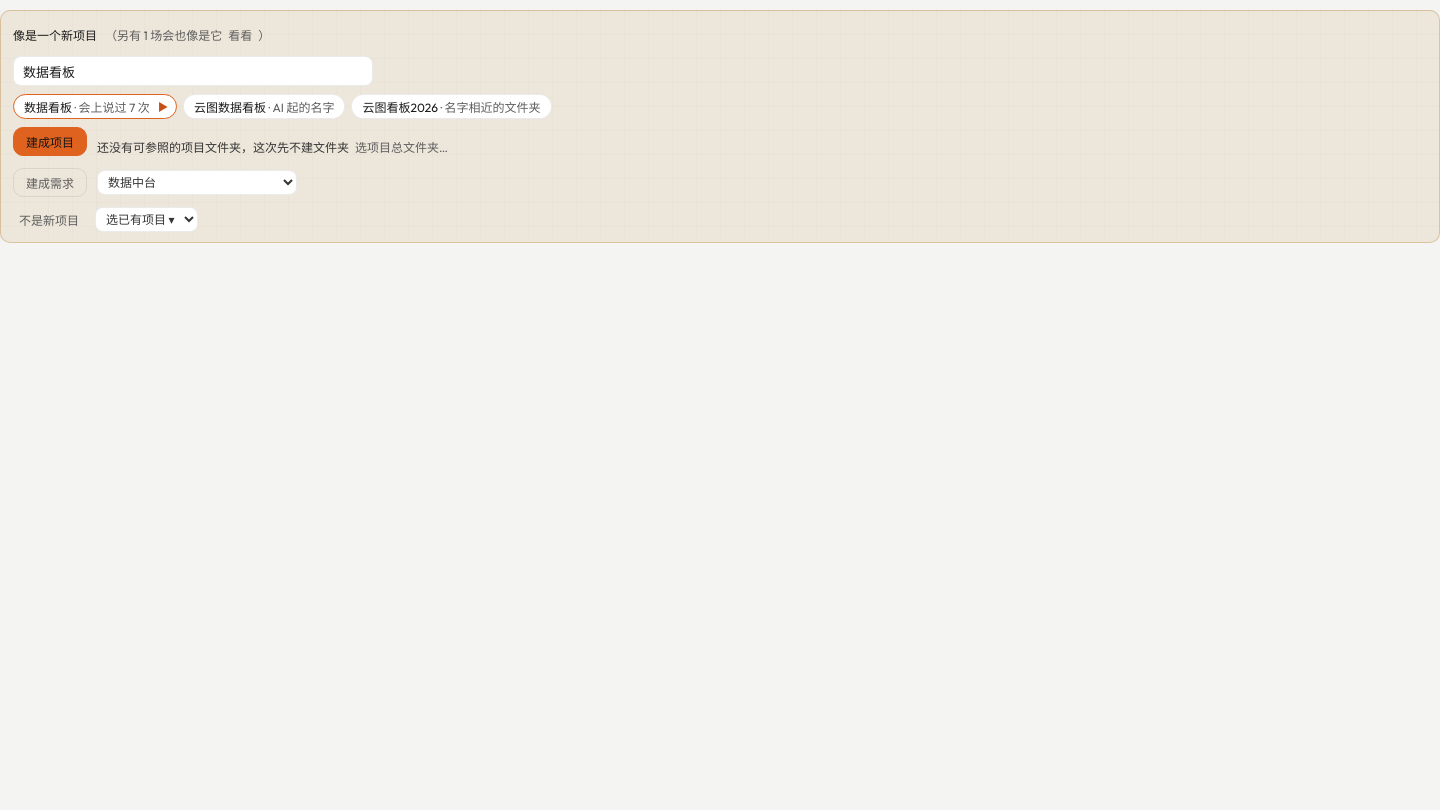
Test: NewNamePrompt 像是一个新项目 › 还没有可参照的项目文件夹：这次先不建，［选项目总文件夹…］就地打开取径器
The image size is (1440, 810).
Check: the text "还没有可参照的项目文件夹，这次先不建文件夹" is shown, box [97,140,349,154]
Click the button "选项目总文件夹…".
click(402, 146)  # box [349,132,454,160]
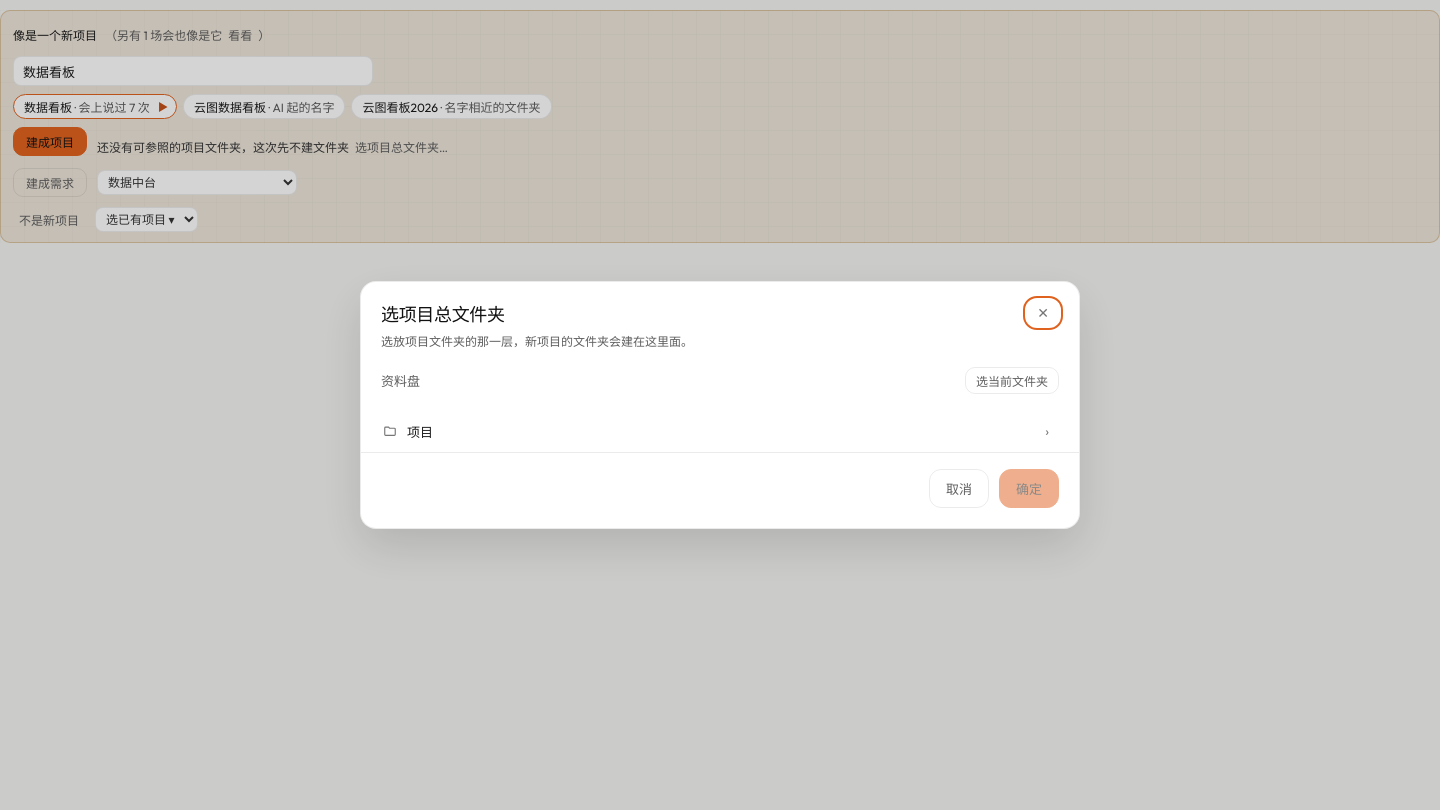
Click the text "项目".
click(408, 431)  # box [383,422,433,441]
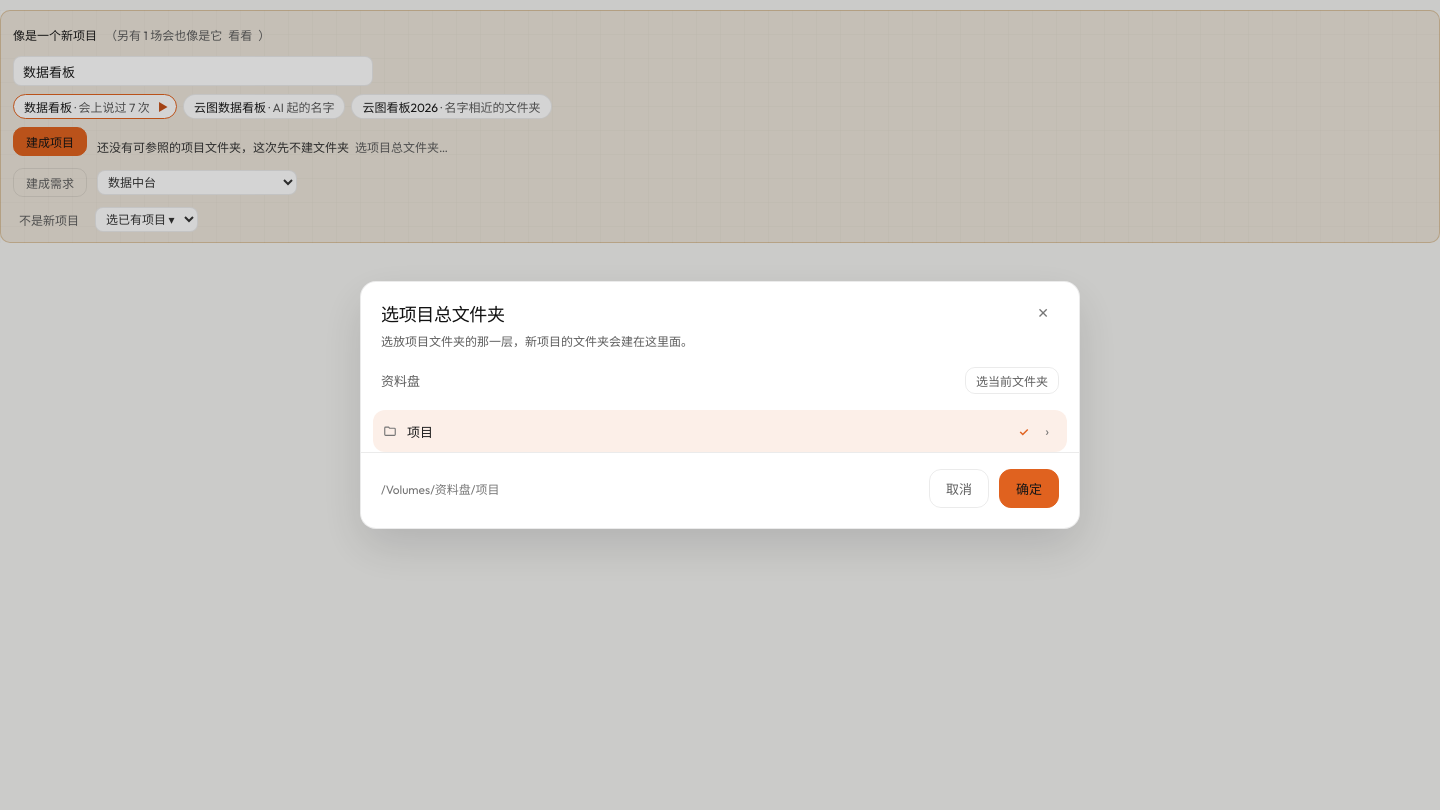
Click the button "确定".
click(1029, 489)  # box [999,469,1059,508]
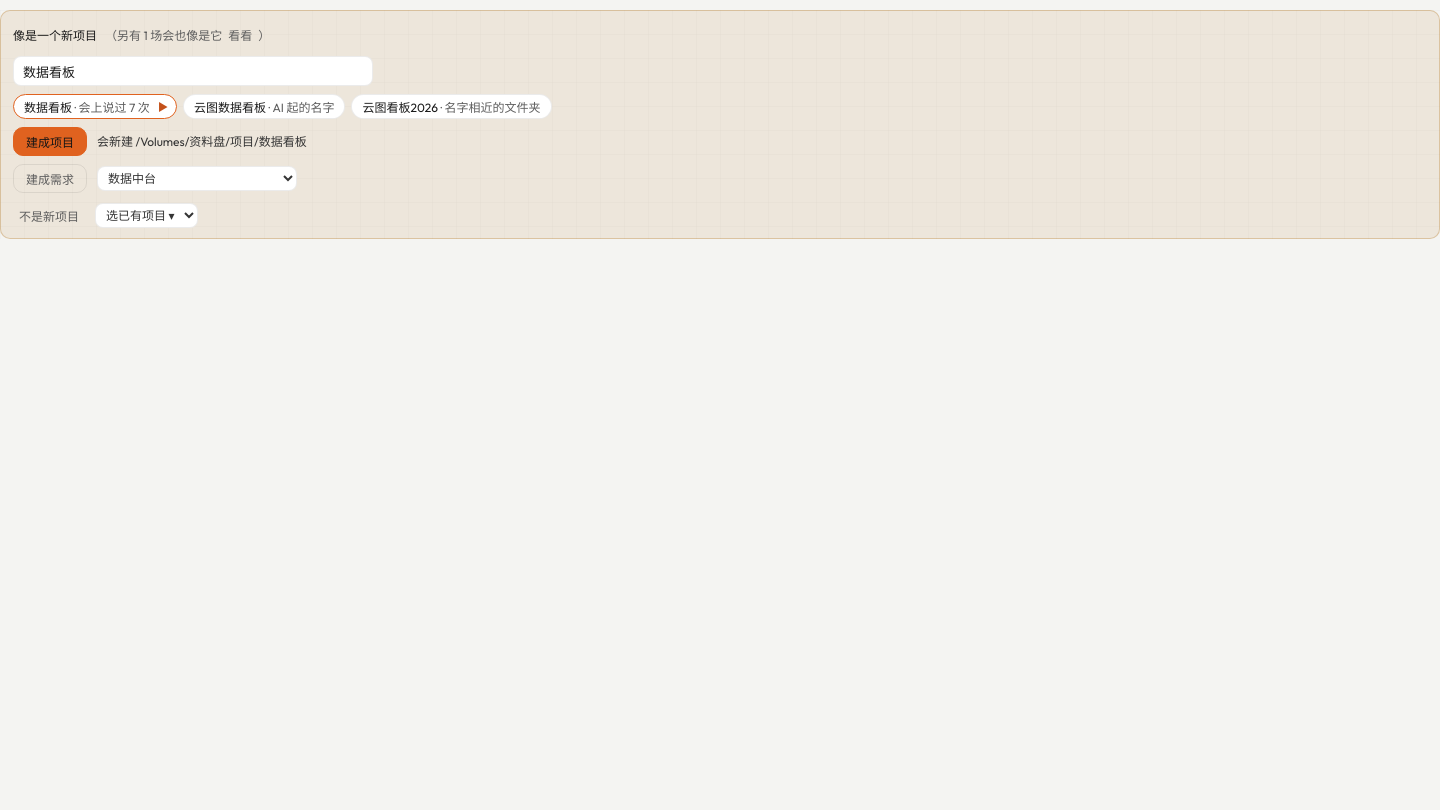
Check: the dialog is gone
